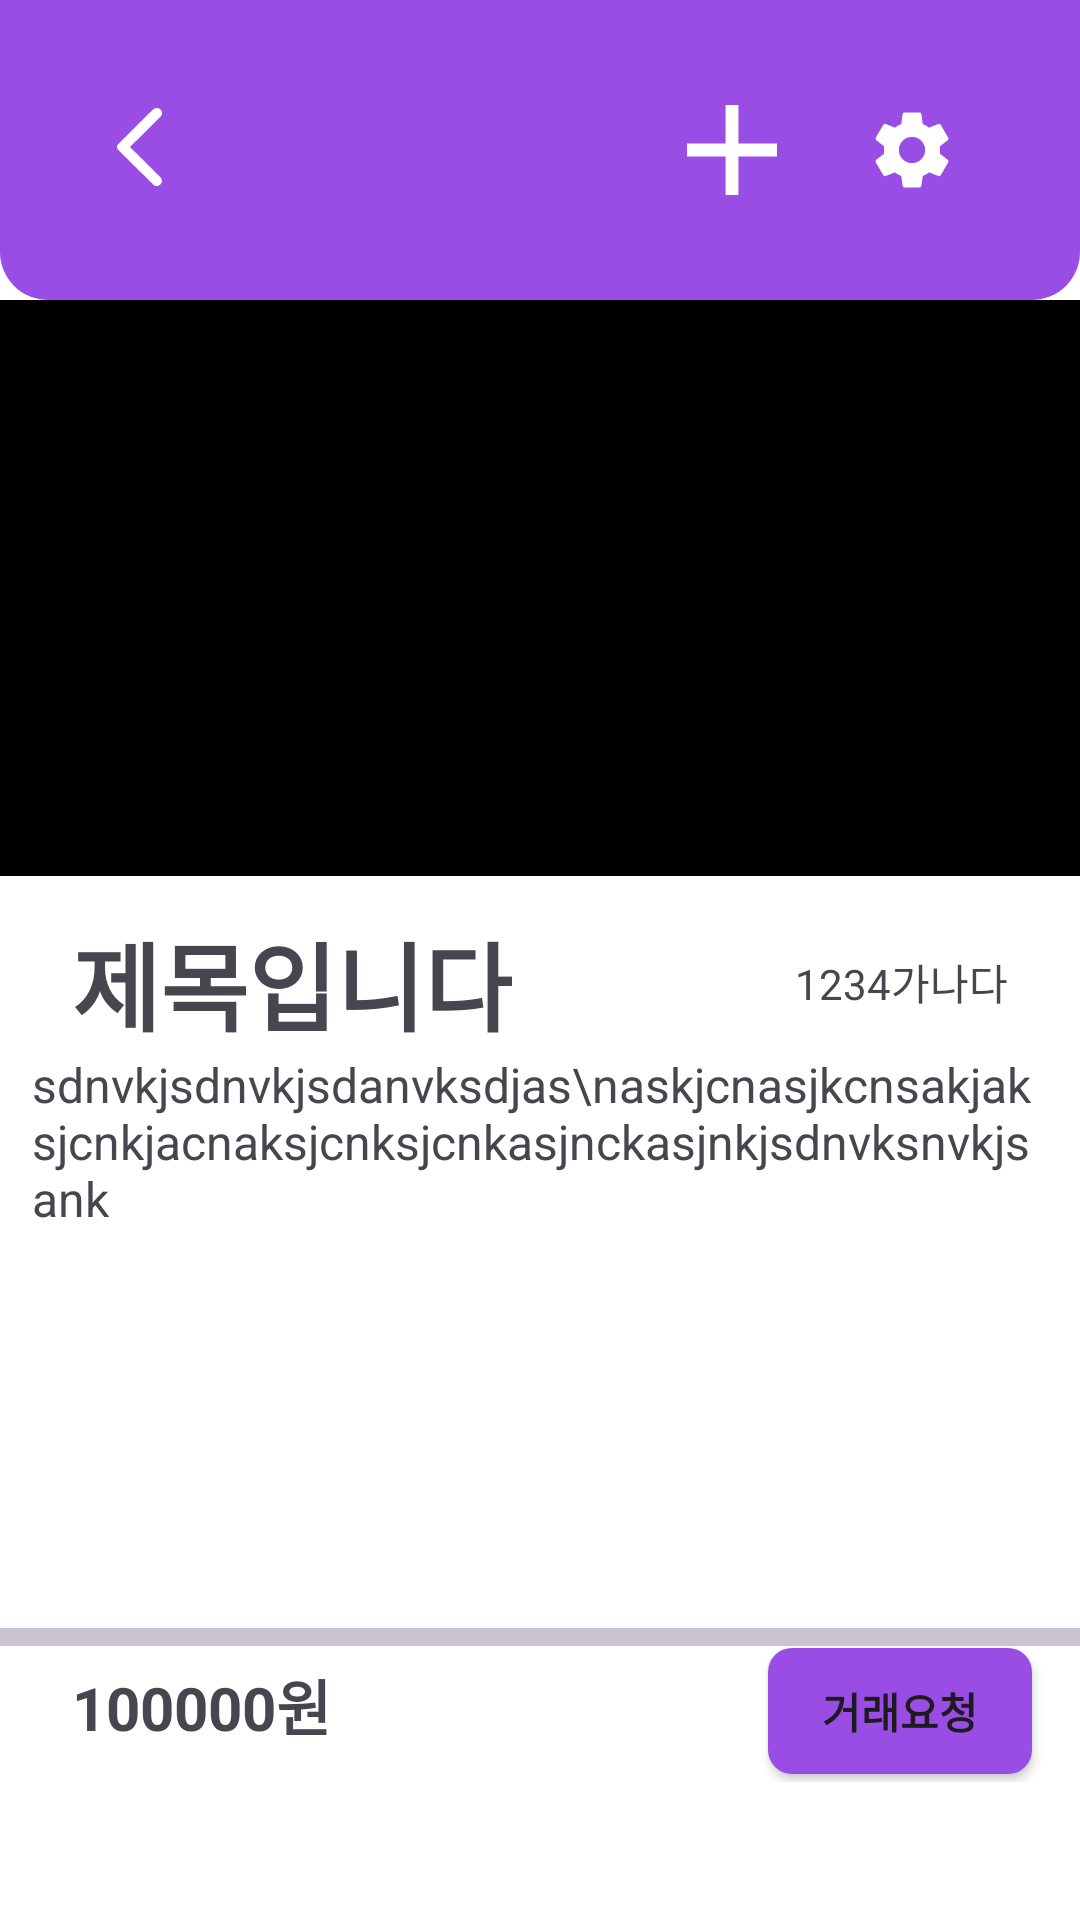

Screen size 1080px×1920px. Icon name, then its center in pixels as [x,y]:
add: [732,150]
back: [139,147]
setting: [912,150]
